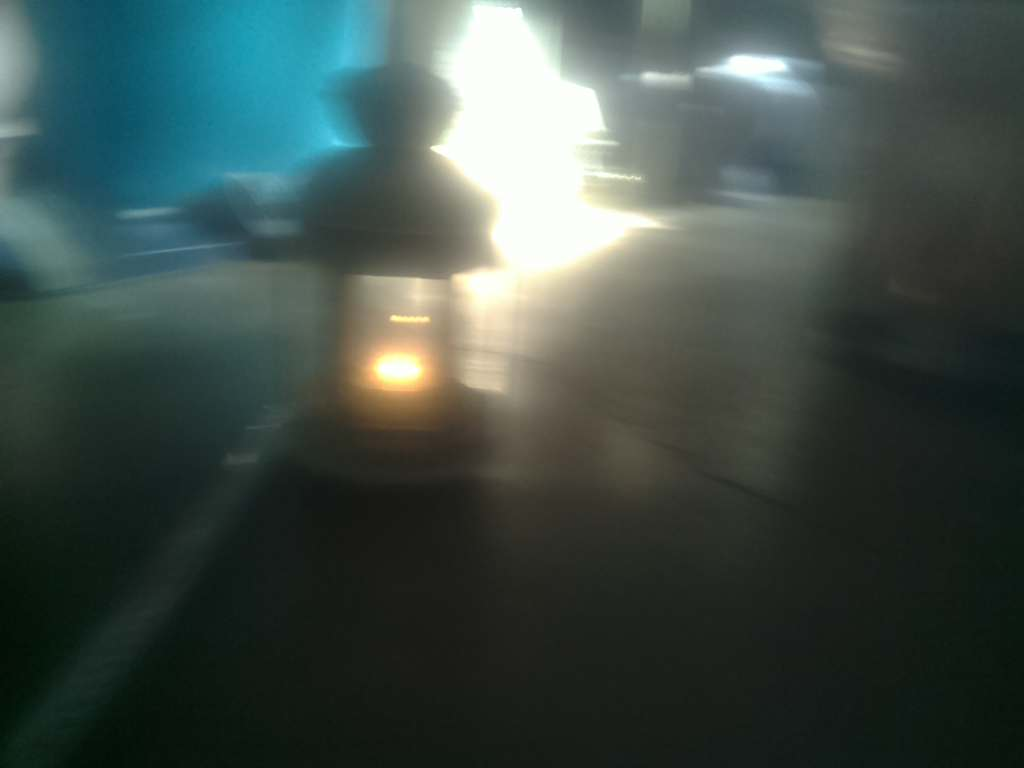fire: (350, 306, 465, 423)
